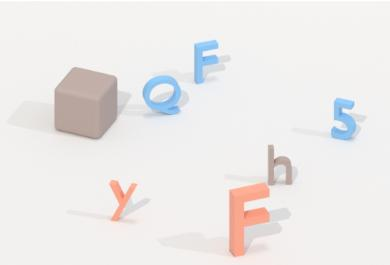0-KhoiVuong: (47, 61, 123, 143)
5: (327, 94, 359, 142)
F: (192, 36, 222, 87)
Q: (139, 71, 185, 118)
h: (264, 141, 296, 191)
y: (105, 177, 139, 224)
